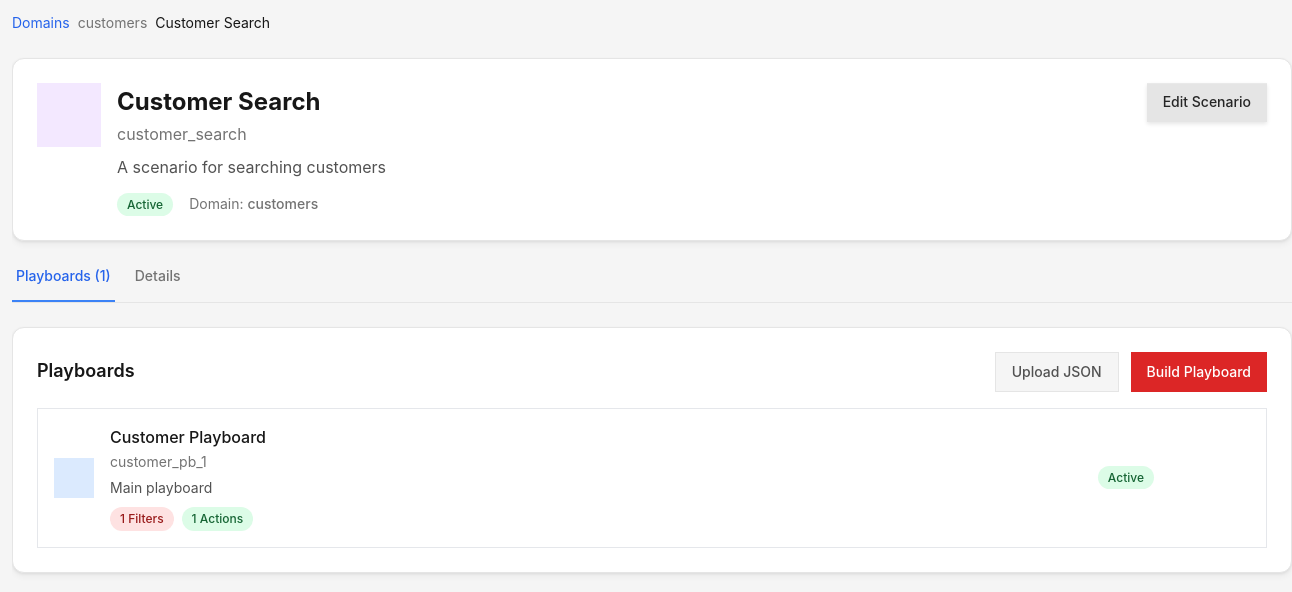
ScenarioDetailPage › switches to Details tab and shows Scenario Information
Expected: the heading "Customer Search" is shown, [117, 87, 320, 116]
Click the button "Details" at (158, 283), box [131, 265, 184, 302]
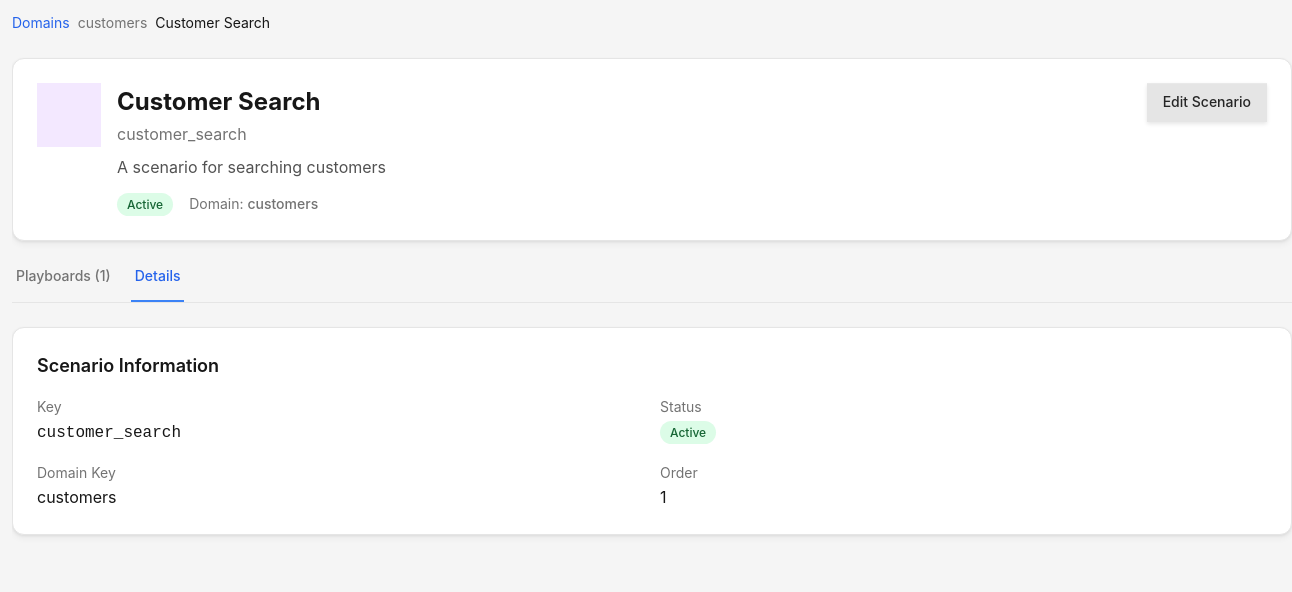
Now the heading "Scenario Information" is shown, box [37, 354, 219, 376]
